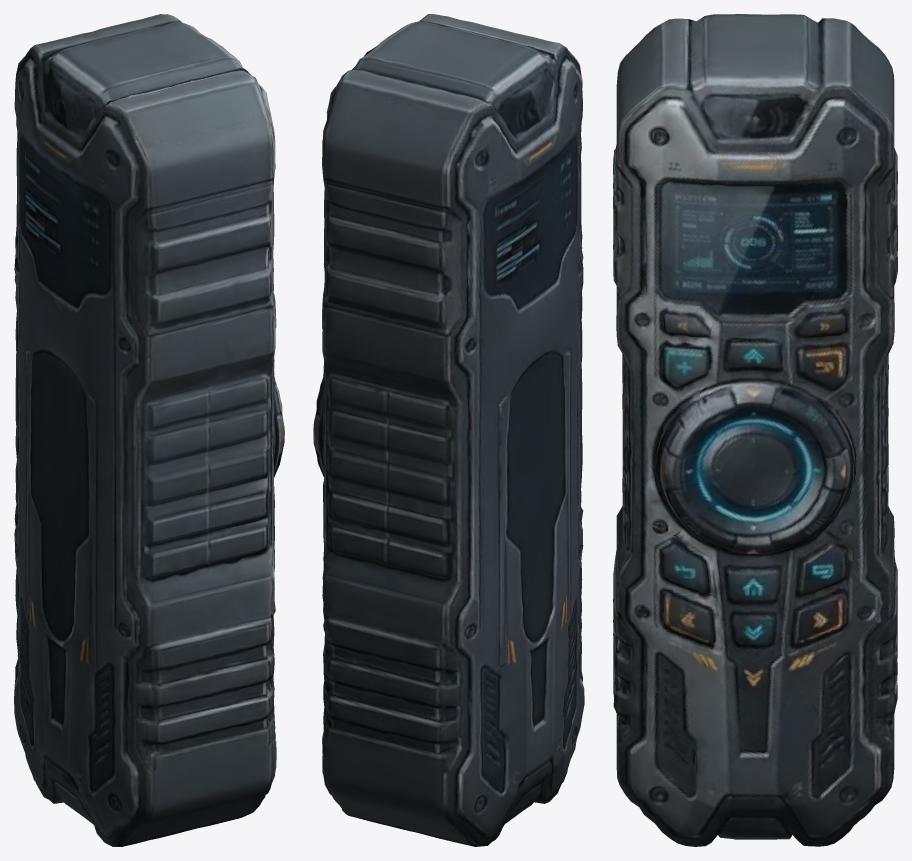
The model's file is 25_rugged_handheld_device.glb.
The picture shows the model from 3 angles, left to right: view 1: azimuth 30°, elevation 25°; view 2: azimuth 150°, elevation 25°; view 3: azimuth 270°, elevation 25°; orthographic projection. The views are drawn at different scales.
Visible parts, largest first — view 1: geometry_0; view 2: geometry_0; view 3: geometry_0.
Part boxes in pixels (x1,y1,x2,y2): geometry_0: (14,14,284,846); geometry_0: (313,14,584,846); geometry_0: (613,14,897,846).
Size of the model in its own units: 0.2582 by 0.9795 by 0.3277.
1 material, 1 textured.
